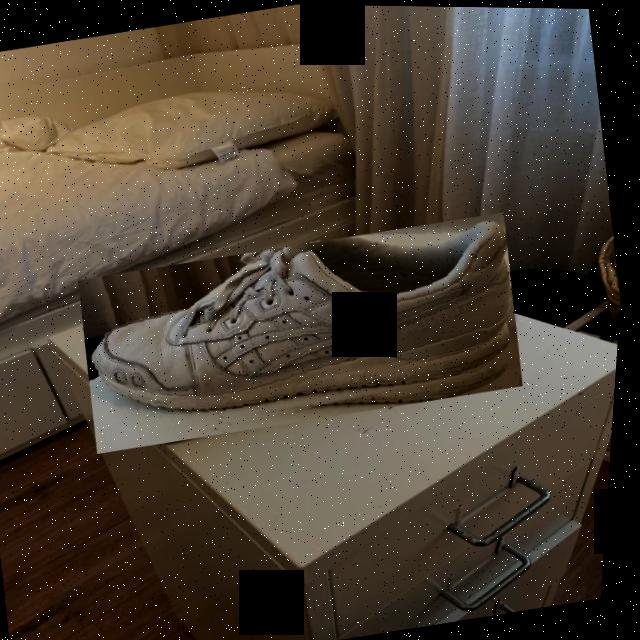shoe: (73, 206, 537, 458)
